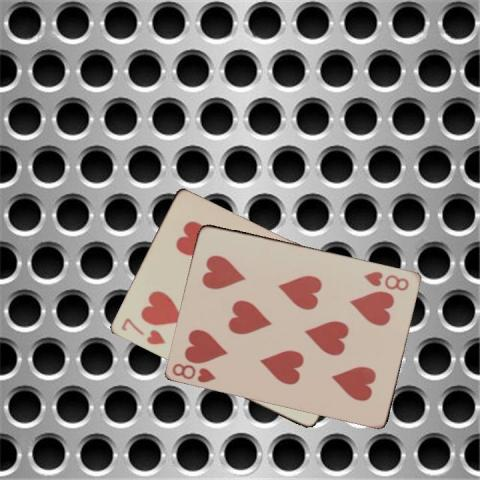7h: (118, 314, 168, 346)
8h: (361, 268, 411, 292), (169, 360, 218, 384)
